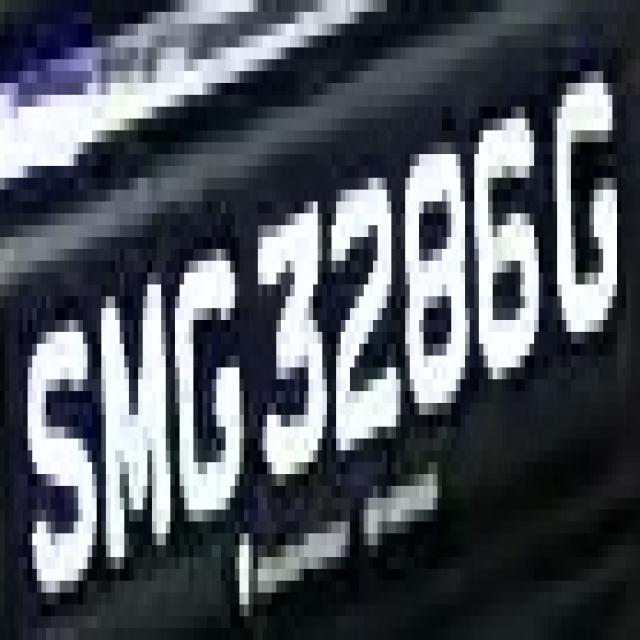2: (322, 178, 410, 474)
3: (239, 166, 327, 486)
6: (470, 107, 543, 391)
8: (400, 95, 470, 438)
G: (170, 202, 249, 522), (548, 48, 621, 380)
M: (92, 249, 180, 557)
S: (14, 296, 101, 593)
